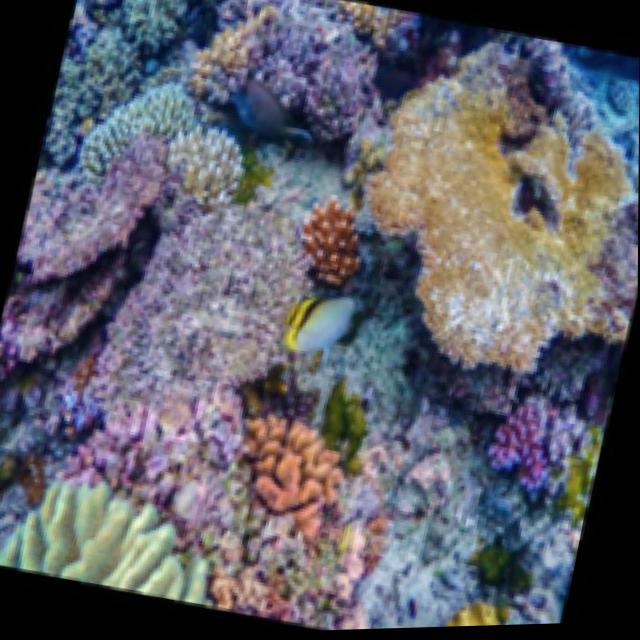Healthy Coral: (348, 6, 640, 388), (52, 134, 323, 497), (0, 60, 178, 334), (174, 0, 426, 163), (0, 443, 229, 620), (23, 0, 198, 188), (457, 369, 621, 540), (263, 165, 395, 313), (237, 405, 356, 546), (133, 97, 261, 219), (422, 578, 545, 630)
